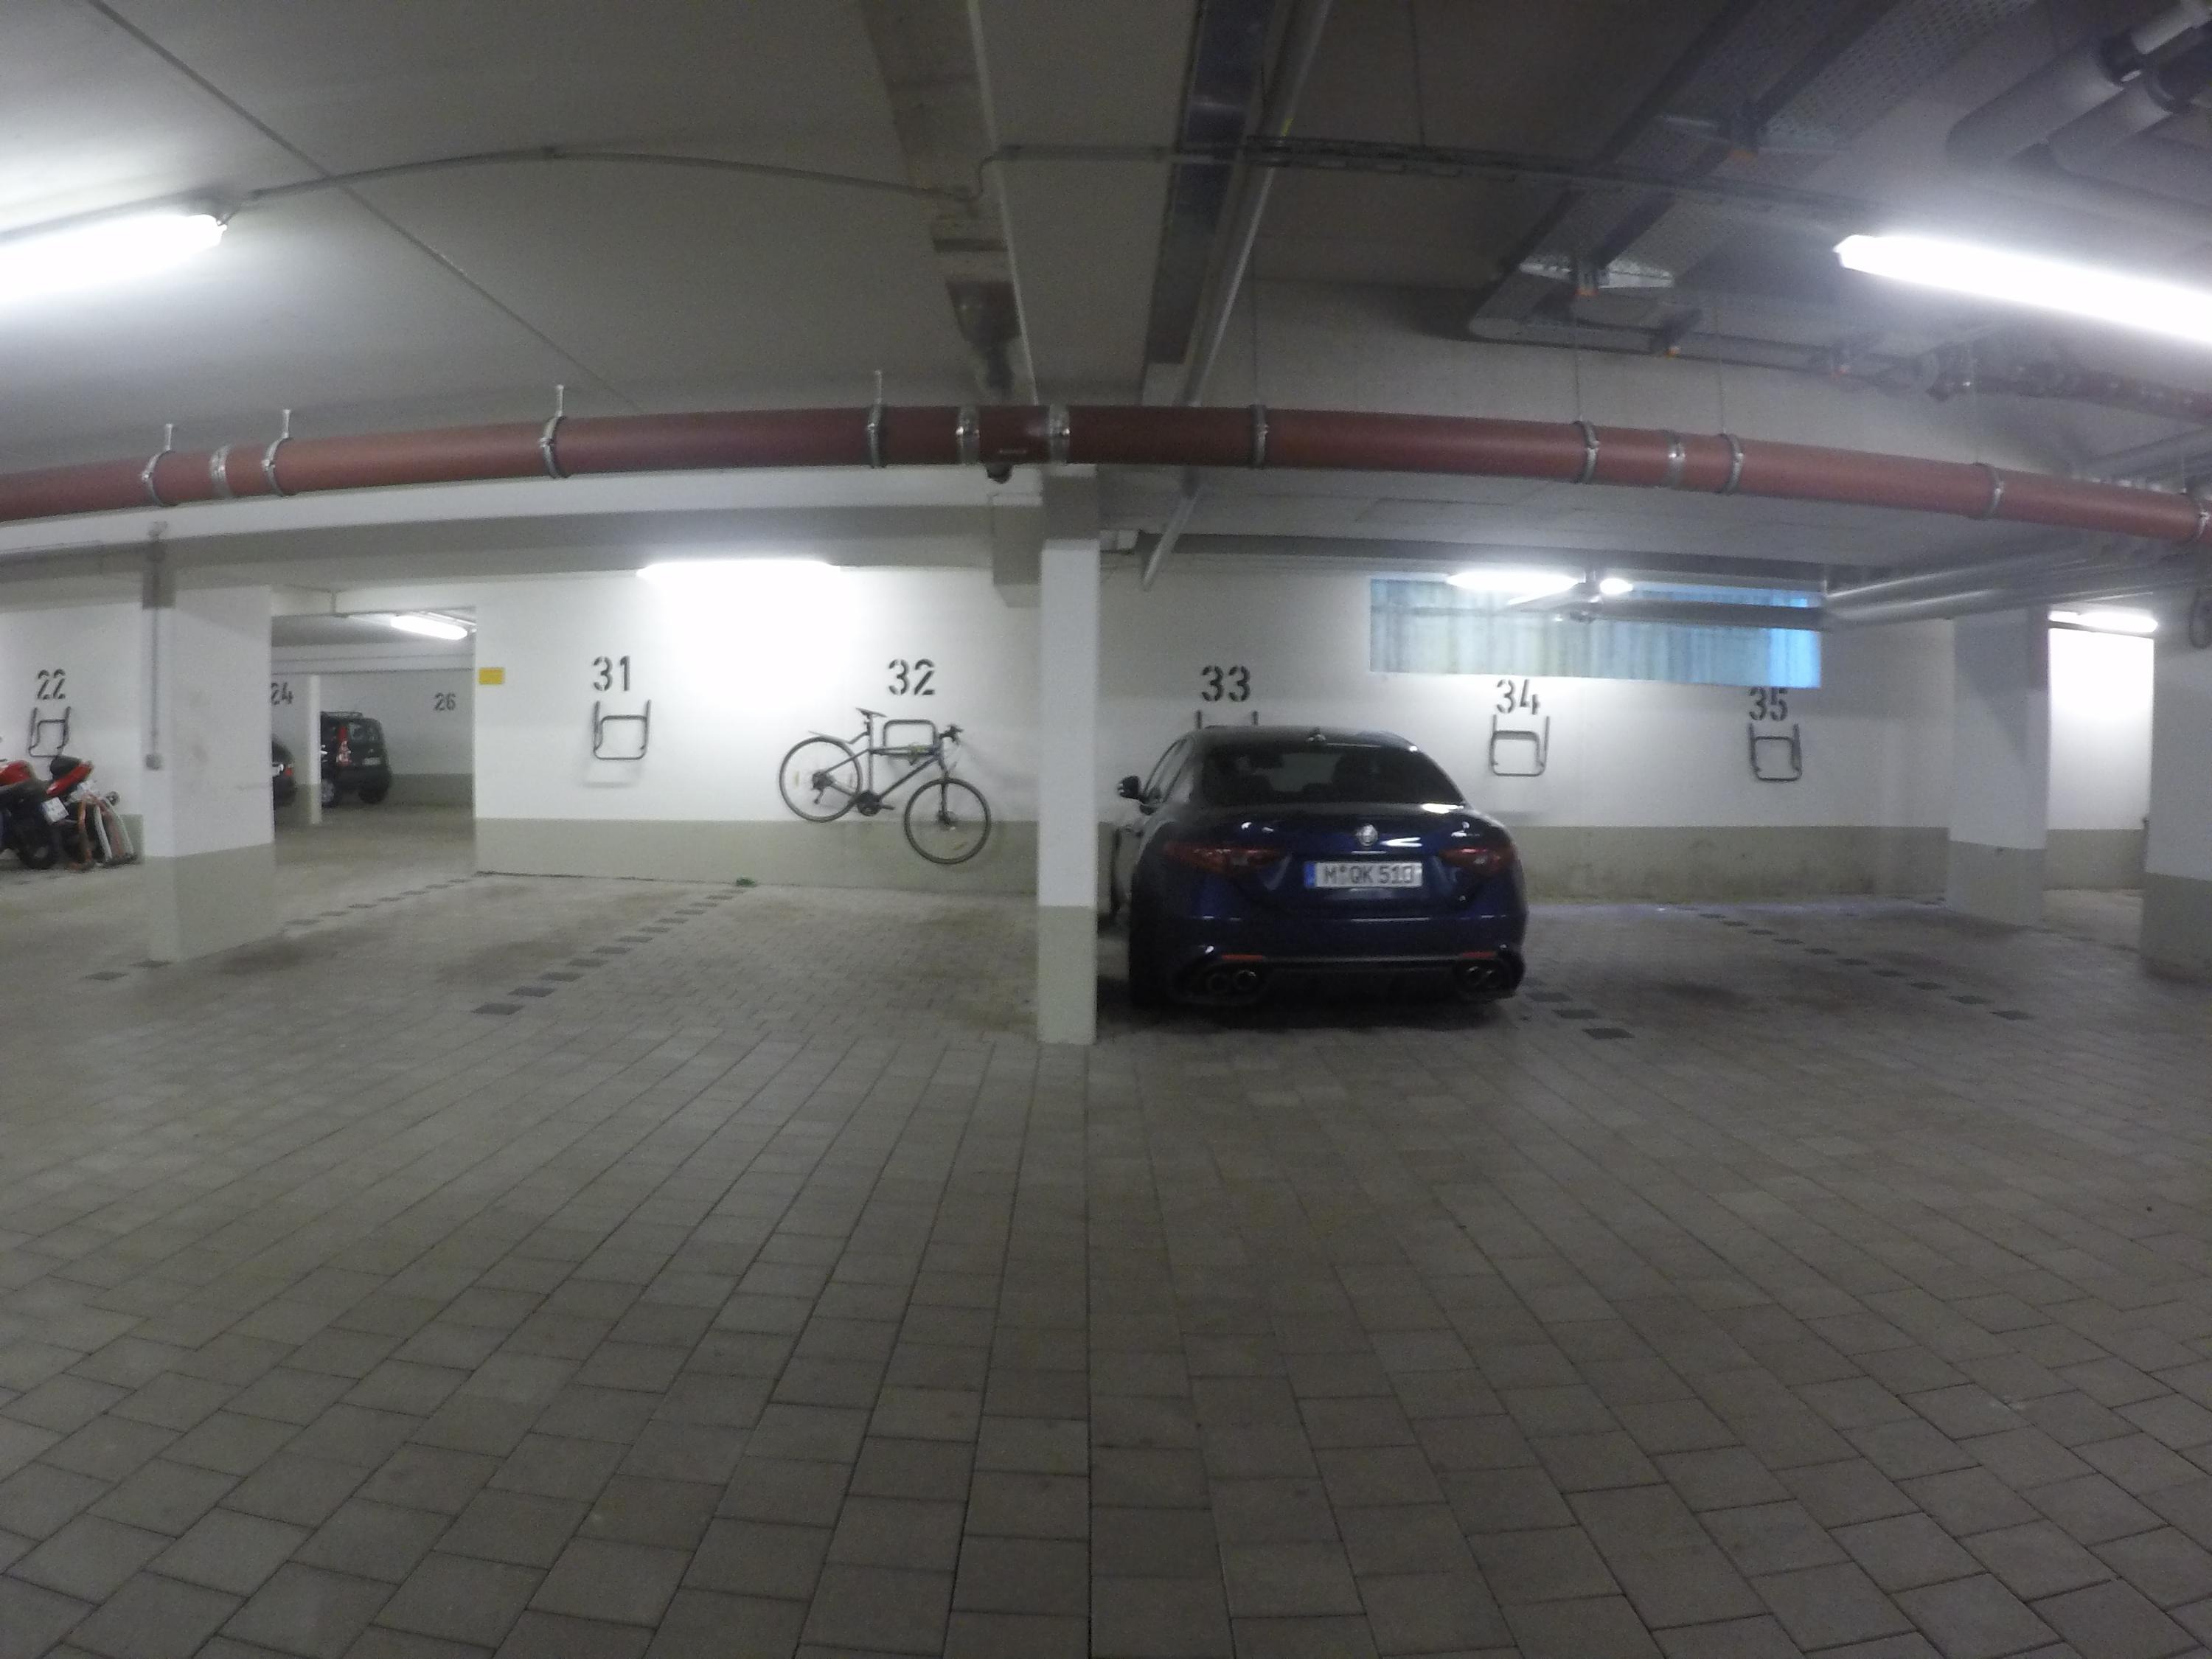0: (1402, 865, 1414, 884)
1: (1391, 865, 1402, 883)
5: (1379, 865, 1391, 883)
K: (1363, 864, 1374, 883)
M: (1324, 865, 1338, 886)
Q: (1349, 866, 1363, 884)
